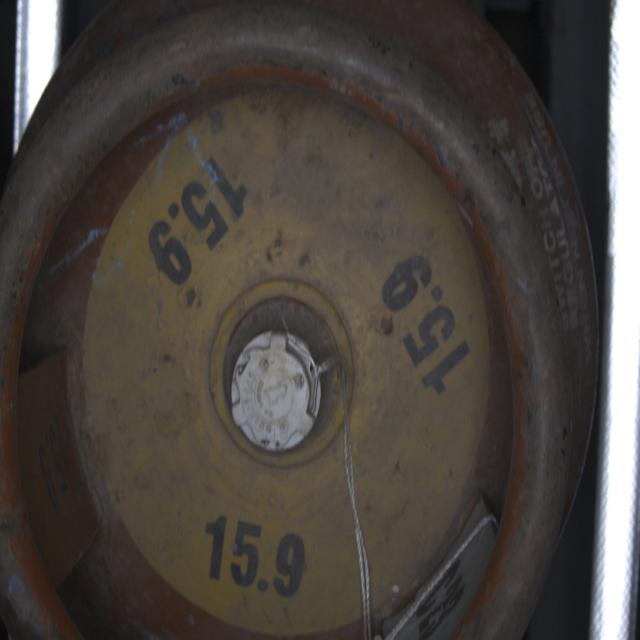Cap: (230, 330, 323, 463)
